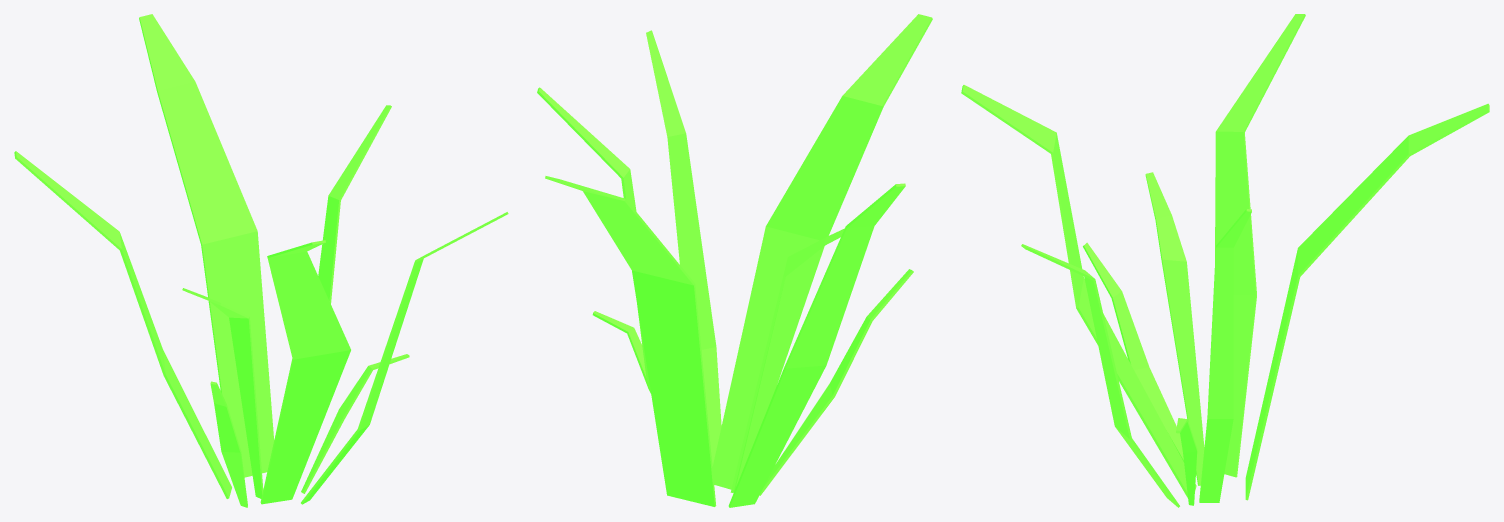
File: grass_2.gltf
3 views of the same model, side by side, from view 1: azimuth 30°, elevation 25°; view 2: azimuth 150°, elevation 25°; view 3: azimuth 270°, elevation 25° (orthographic). The views are drawn at different scales.
Parts seen in each view (by area): view 1: Grass_2; view 2: Grass_2; view 3: Grass_2.
Part boxes in pixels (x1,y1,x2,y2): Grass_2: (14,14,508,507); Grass_2: (537,14,932,507); Grass_2: (961,14,1489,507).
Size of the model in its own units: 25.47 by 25.46 by 30.94.
